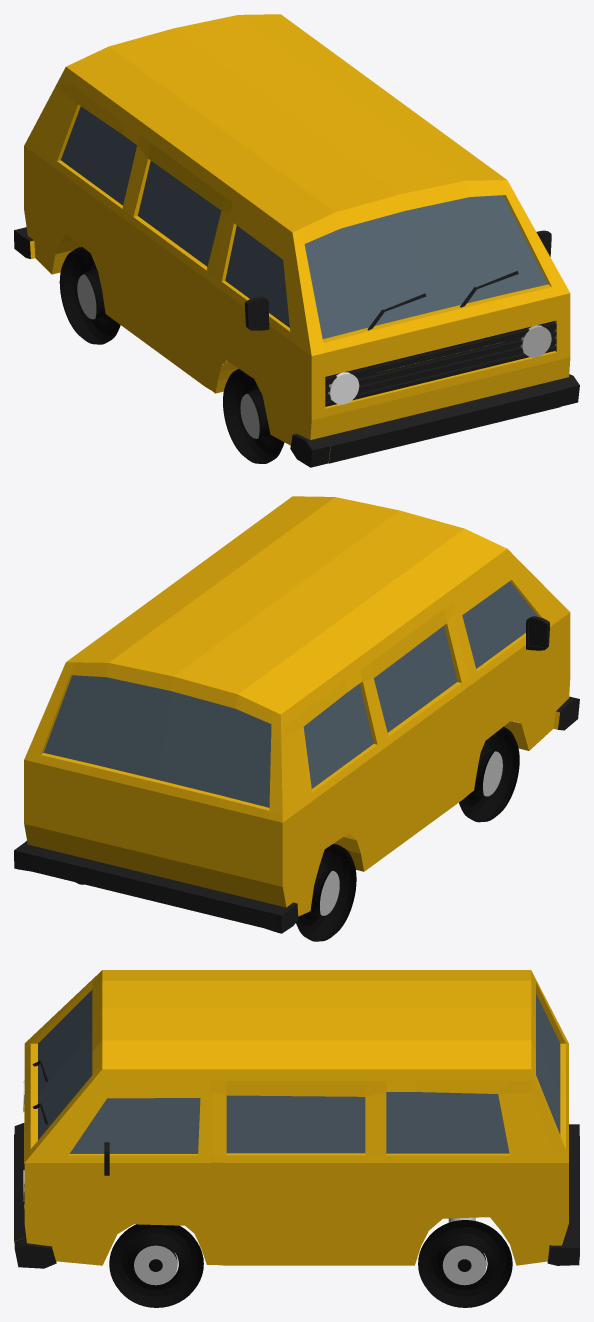
File: Lagos Danfo Bus.glb
The picture shows the model from 3 angles, top to bottom: view 1: azimuth 30°, elevation 25°; view 2: azimuth 150°, elevation 25°; view 3: azimuth 270°, elevation 25°; orthographic projection. The views are drawn at different scales.
Parts seen in each view (by area): view 1: Cube, Cylinder.003, Cylinder.005, Cube.001, Cylinder.007, Cylinder.008; view 2: Cube, Cylinder.003, Cylinder.005, Cube.001; view 3: Cube, Cylinder.002, Cylinder.004.
Part boxes in pixels (left/top/right/bottom): Cube: left=14, top=14, right=579, bottom=467; Cylinder.003: left=59, top=247, right=120, bottom=344; Cylinder.005: left=223, top=368, right=284, bottom=463; Cube.001: left=244, top=296, right=269, bottom=330; Cylinder.007: left=520, top=325, right=551, bottom=357; Cylinder.008: left=328, top=372, right=359, bottom=404; Cube: left=14, top=496, right=579, bottom=933; Cylinder.003: left=296, top=844, right=356, bottom=941; Cylinder.005: left=459, top=726, right=519, bottom=822; Cube.001: left=526, top=616, right=549, bottom=650; Cube: left=14, top=970, right=579, bottom=1268; Cylinder.002: left=418, top=1220, right=512, bottom=1307; Cylinder.004: left=109, top=1224, right=203, bottom=1307.
Bounding box in the file's own units: 4.69 × 3.81 × 7.99.
